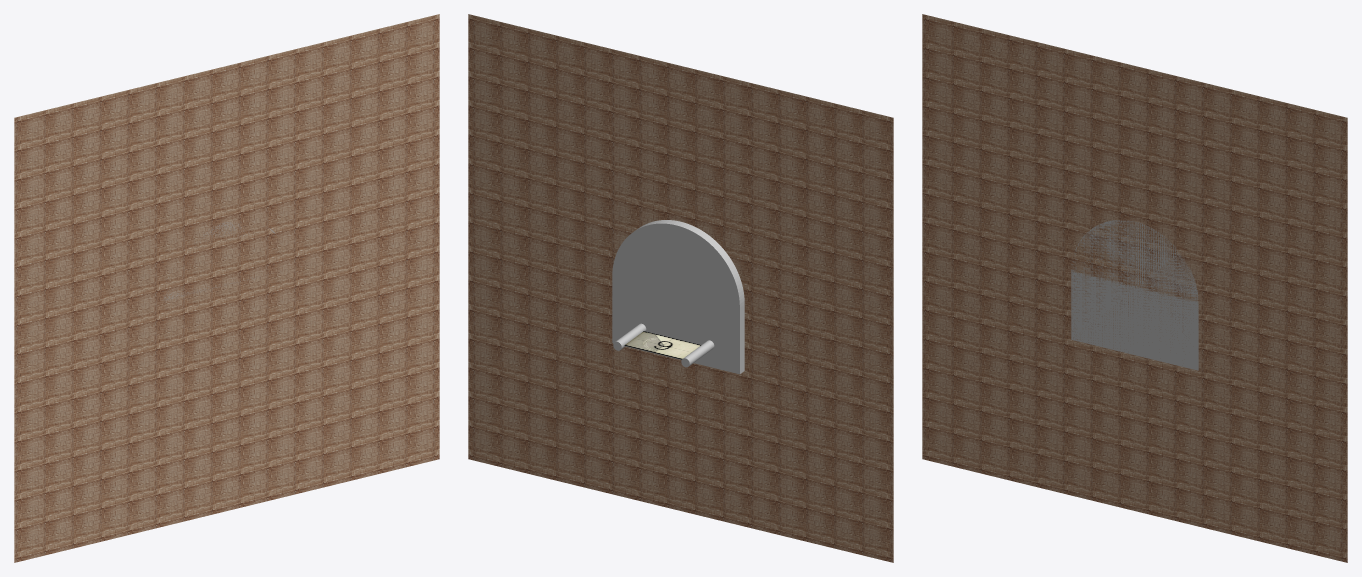
3 renders of one model, left to right at view 1: azimuth 30°, elevation 25°; view 2: azimuth 150°, elevation 25°; view 3: azimuth 330°, elevation 25°, orthographic.
Visible parts, largest first — view 1: Plane; view 2: Plane, Floor, Display; view 3: Plane, Floor.
Boxes of the visible parts, x1,y1,x2,y2 form: Plane: [14, 14, 439, 562]; Plane: [468, 14, 893, 562]; Floor: [612, 220, 744, 374]; Display: [624, 331, 700, 359]; Plane: [922, 14, 1347, 562]; Floor: [1071, 220, 1198, 370].
Bounding box in the file's own units: 100 × 12 × 100.
